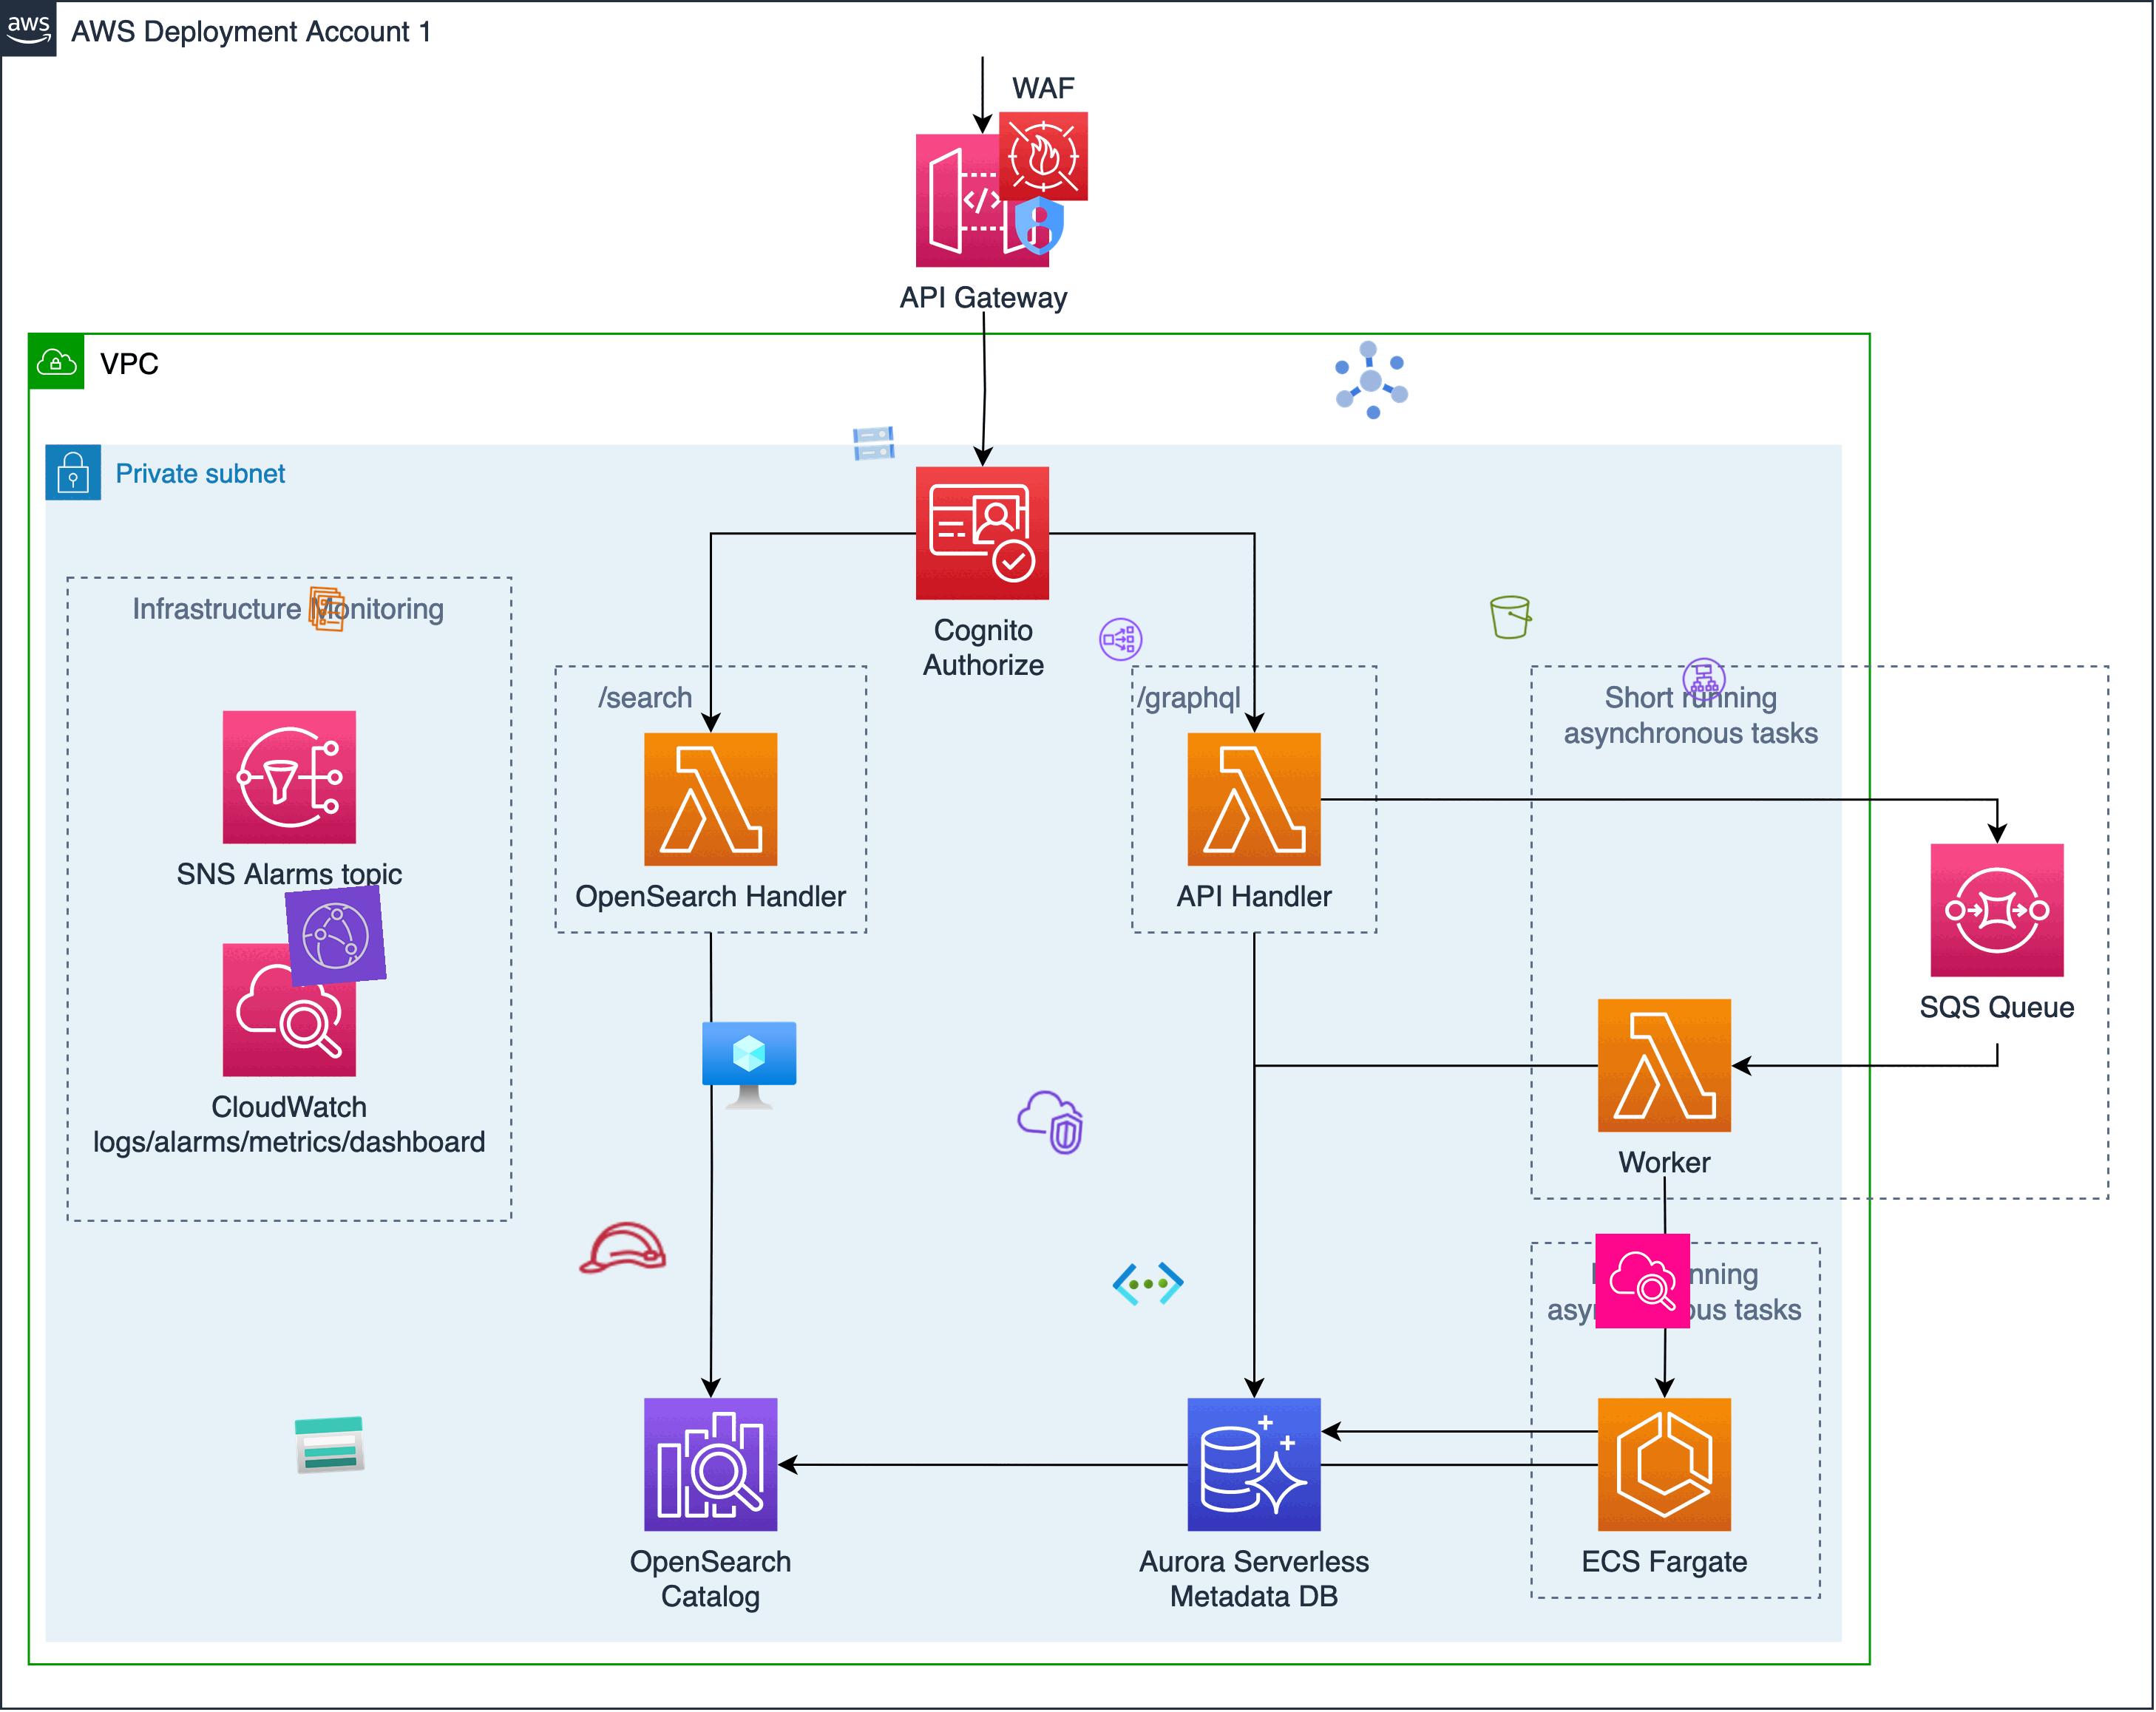aws_amazon_cloudfront: (284, 885, 387, 988)
aws_amazon_cloudwatch: (1594, 1233, 1690, 1329)
aws_elastic_container_service_service: (301, 584, 352, 635)
aws_elastic_load_balancing_application_load_balancer: (1678, 654, 1729, 705)
aws_elastic_load_balancing_network_load_balancer: (1097, 616, 1144, 665)
aws_identity_access_management_role: (572, 1198, 672, 1298)
aws_simple_storage_service_s3_standard: (1488, 593, 1536, 642)
aws_vpc_virtual_private_cloud_vpc: (1012, 1084, 1088, 1161)
azure_storage_accounts: (292, 1408, 367, 1483)
azure_virtual_machine: (702, 1020, 798, 1116)
azure_virtual_networks: (1111, 1247, 1186, 1322)
gcp_cloud_storage: (849, 418, 900, 469)
gcp_identity_and_access_management: (1003, 189, 1076, 262)
gcp_pubsub: (1319, 329, 1423, 432)
